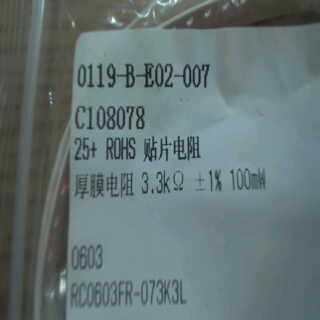1.2R: (137, 164, 187, 199)
